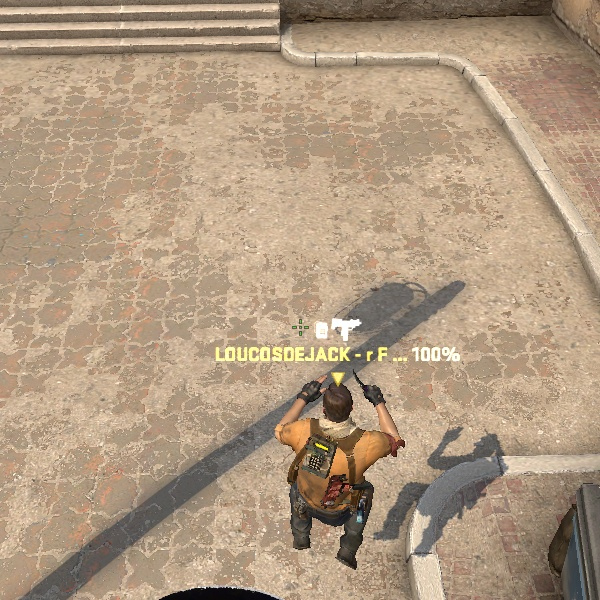t_body: (264, 364, 413, 593)
t_head: (311, 373, 367, 428)
